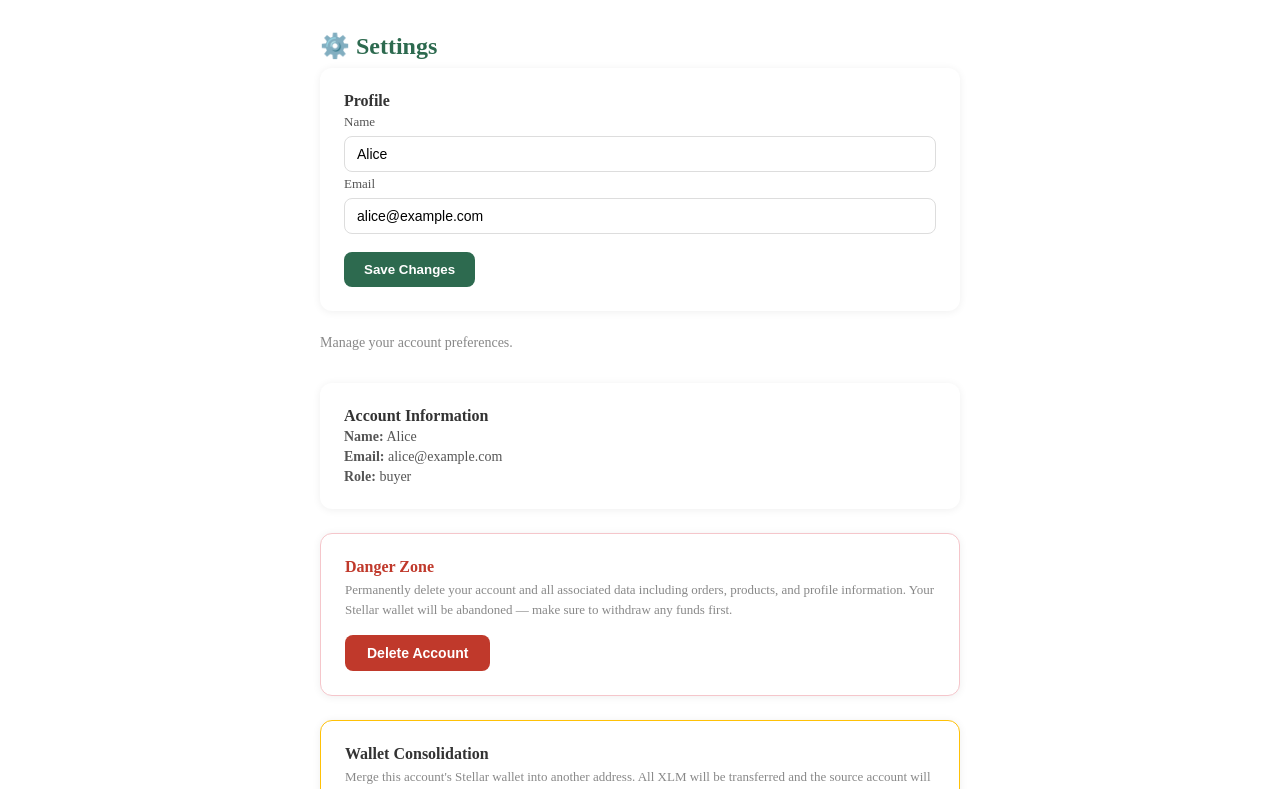
#454 Settings – save confirmation toast › shows error toast when save fails
Click the button "Save Changes" at [410, 270], box [344,252,475,287]
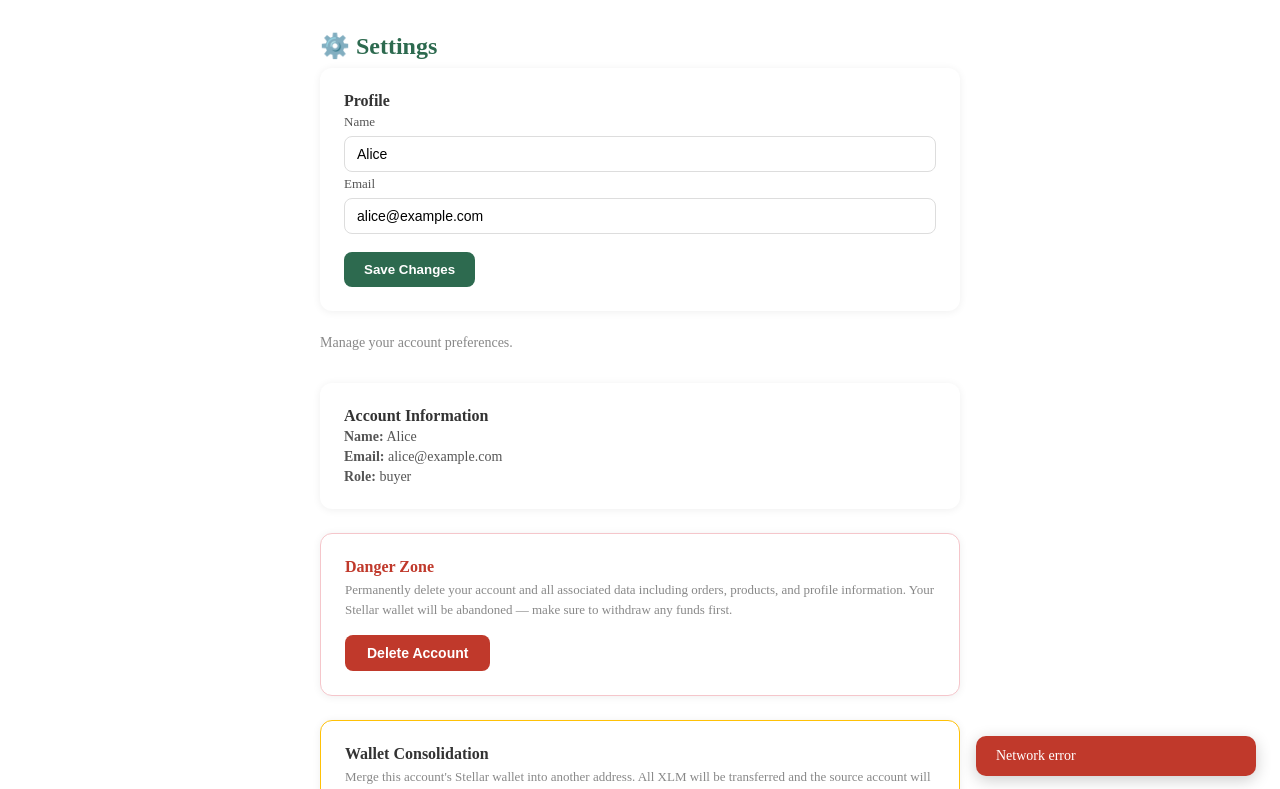
expect the message reads "Network error": met, box [996,748,1076,763]
